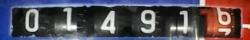digits: (53, 7, 87, 38), (209, 8, 235, 36), (139, 10, 156, 32), (100, 10, 115, 33), (25, 8, 39, 31), (178, 10, 188, 33)
